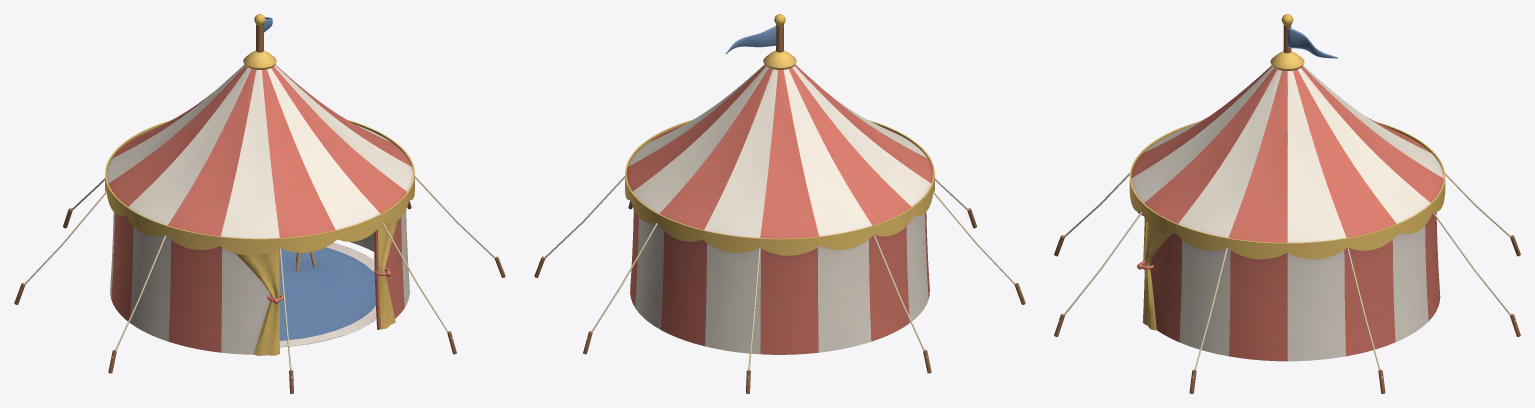
File: tienda_medieval.glb
The picture shows the model from 3 angles, left to right: view 1: azimuth 30°, elevation 25°; view 2: azimuth 150°, elevation 25°; view 3: azimuth 270°, elevation 25°; orthographic projection.
Visible parts, largest first — view 1: medieval-tent_body; view 2: medieval-tent_body; view 3: medieval-tent_body.
Part boxes in pixels (x1,y1,x2,y2): medieval-tent_body: (14, 14, 505, 393); medieval-tent_body: (534, 14, 1025, 393); medieval-tent_body: (1054, 14, 1520, 393).
Bounding box in the file's own units: 5.96 × 3.98 × 5.96.
Materials: 8 (1 with a texture image).
